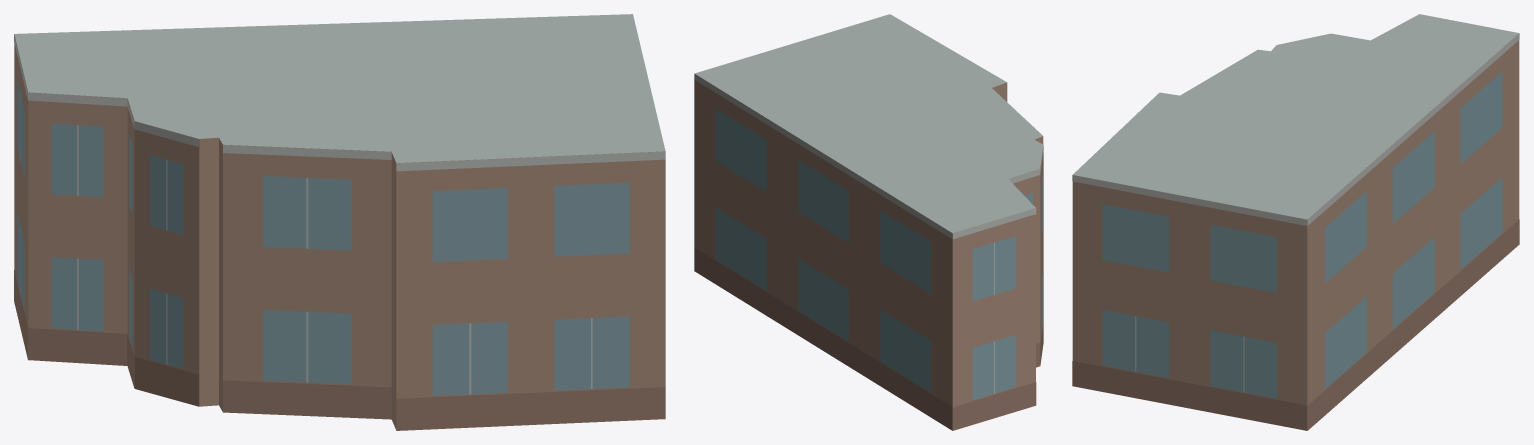
Rendered from survey-upis-32626313.glb.
3 renders of one model, left to right at view 1: azimuth 30°, elevation 25°; view 2: azimuth 150°, elevation 25°; view 3: azimuth 270°, elevation 25°, orthographic. The views are drawn at different scales.
Parts seen in each view (by area): view 1: survey-upis-32626313.tmp; view 2: survey-upis-32626313.tmp; view 3: survey-upis-32626313.tmp.
Part boxes in pixels (left/top/right/bottom): survey-upis-32626313.tmp: left=14, top=14, right=665, bottom=430; survey-upis-32626313.tmp: left=694, top=14, right=1043, bottom=430; survey-upis-32626313.tmp: left=1072, top=14, right=1519, bottom=430.
Size of the model in its own units: 16.5 by 7.9 by 15.16.
